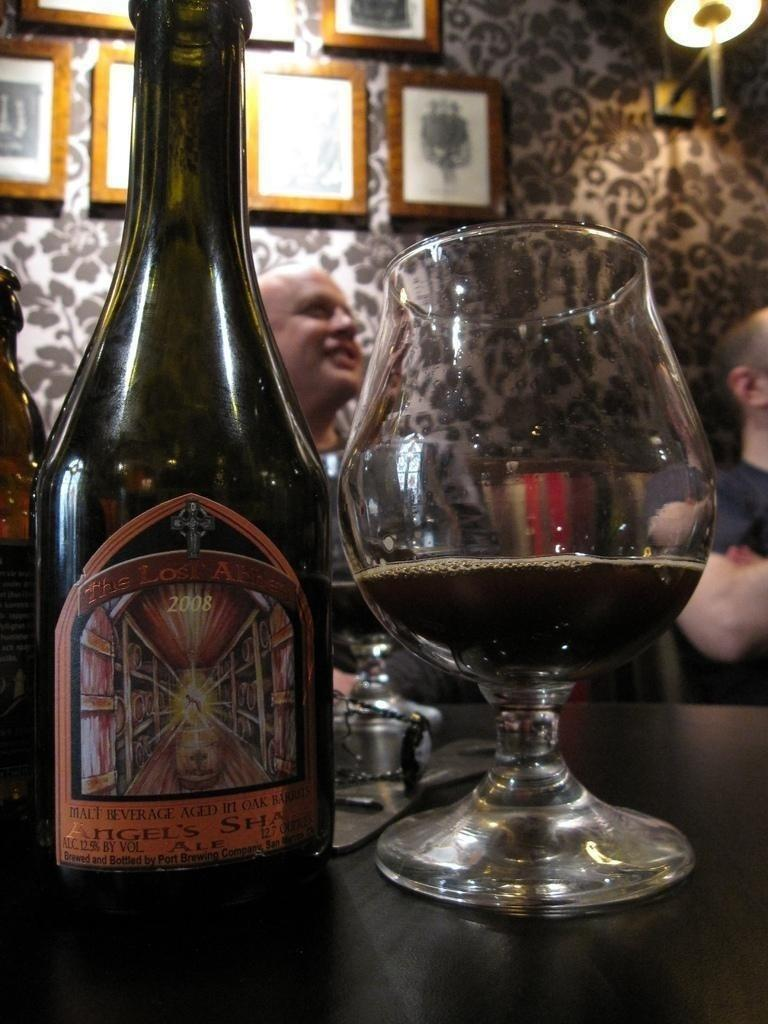bottle-glass: (29, 1, 339, 936)
glass-wine: (333, 223, 718, 921)
